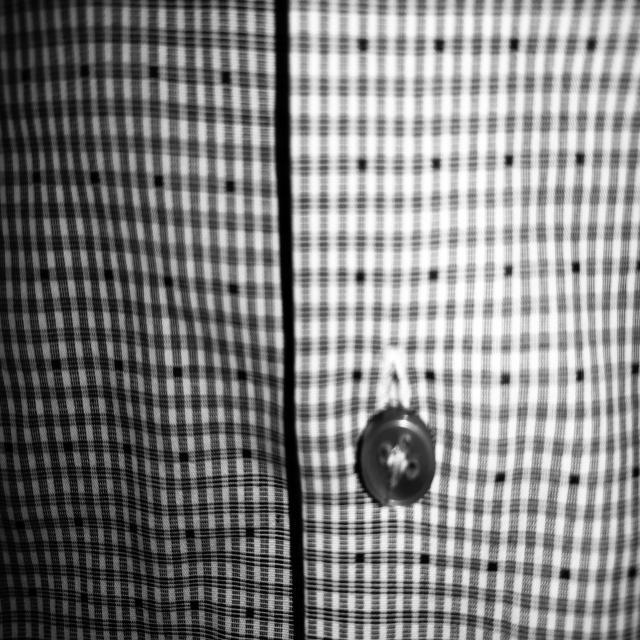Button_hike: (346, 329, 443, 529)
